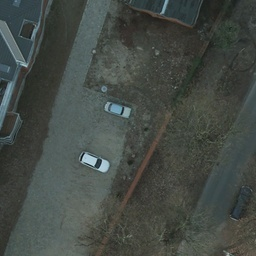car: (78, 152, 110, 171), (105, 102, 132, 120)
